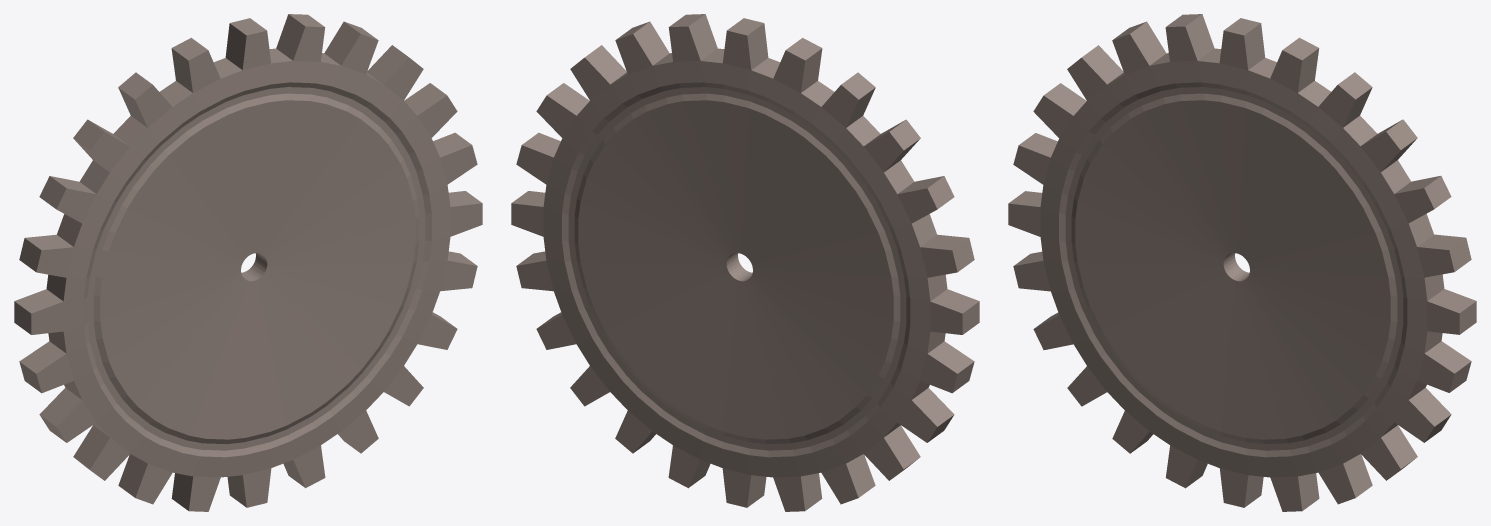
The model's file is puzzle_gear3.fbx.
The picture shows the model from 3 angles, left to right: view 1: azimuth 30°, elevation 25°; view 2: azimuth 150°, elevation 25°; view 3: azimuth 330°, elevation 25°; orthographic projection.
Visible parts, largest first — view 1: Cylinder.026; view 2: Cylinder.026; view 3: Cylinder.026.
Part boxes in pixels (x1,y1,x2,y2): Cylinder.026: (14, 14, 482, 511); Cylinder.026: (511, 14, 979, 511); Cylinder.026: (1008, 14, 1476, 511).
Size of the model in its own units: 364 by 364 by 26.55.
